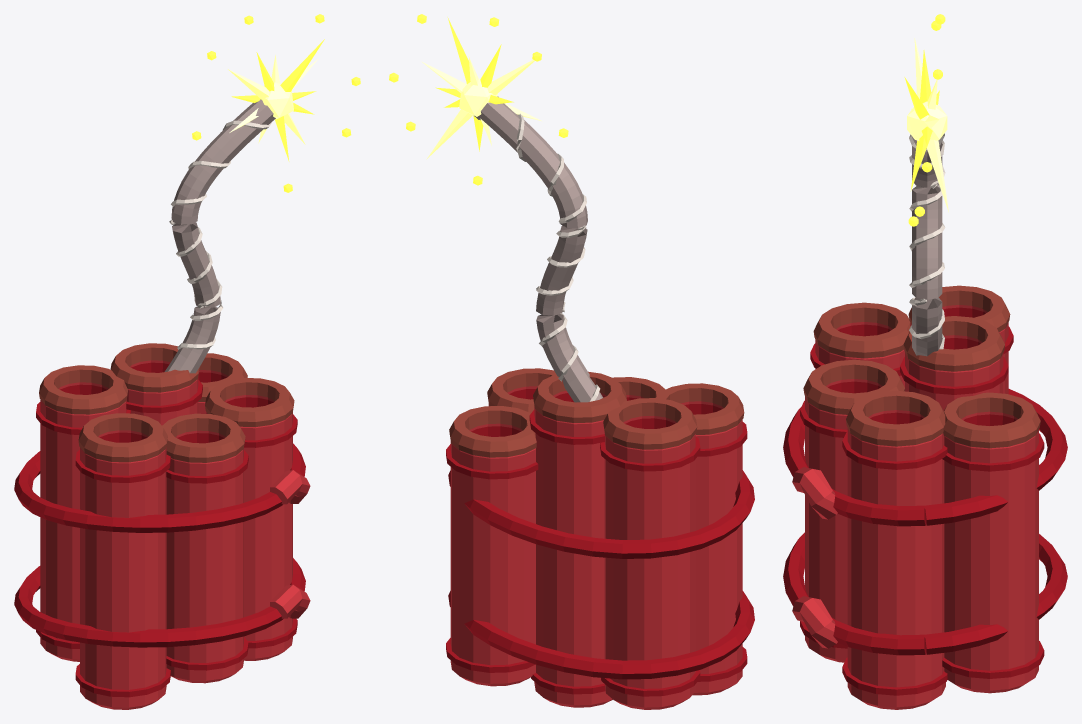
The model's file is thr.firecracker-lure.glb.
3 renders of one model, left to right at view 1: azimuth 30°, elevation 25°; view 2: azimuth 150°, elevation 25°; view 3: azimuth 270°, elevation 25°, orthographic. The views are drawn at different scales.
Visible parts, largest first — view 1: body, object 2; view 2: body, object 2; view 3: body, object 2.
Boxes of the visible parts, x1=… form: body: x1=40, y1=360, x2=310, y2=709; object 2: x1=14, y1=14, x2=360, y2=697; body: x1=450, y1=386, x2=742, y2=709; object 2: x1=389, y1=14, x2=754, y2=696; body: x1=792, y1=305, x2=1038, y2=709; object 2: x1=783, y1=14, x2=1067, y2=695.
Size of the model in its own units: 0.2551 by 0.4515 by 0.168.
